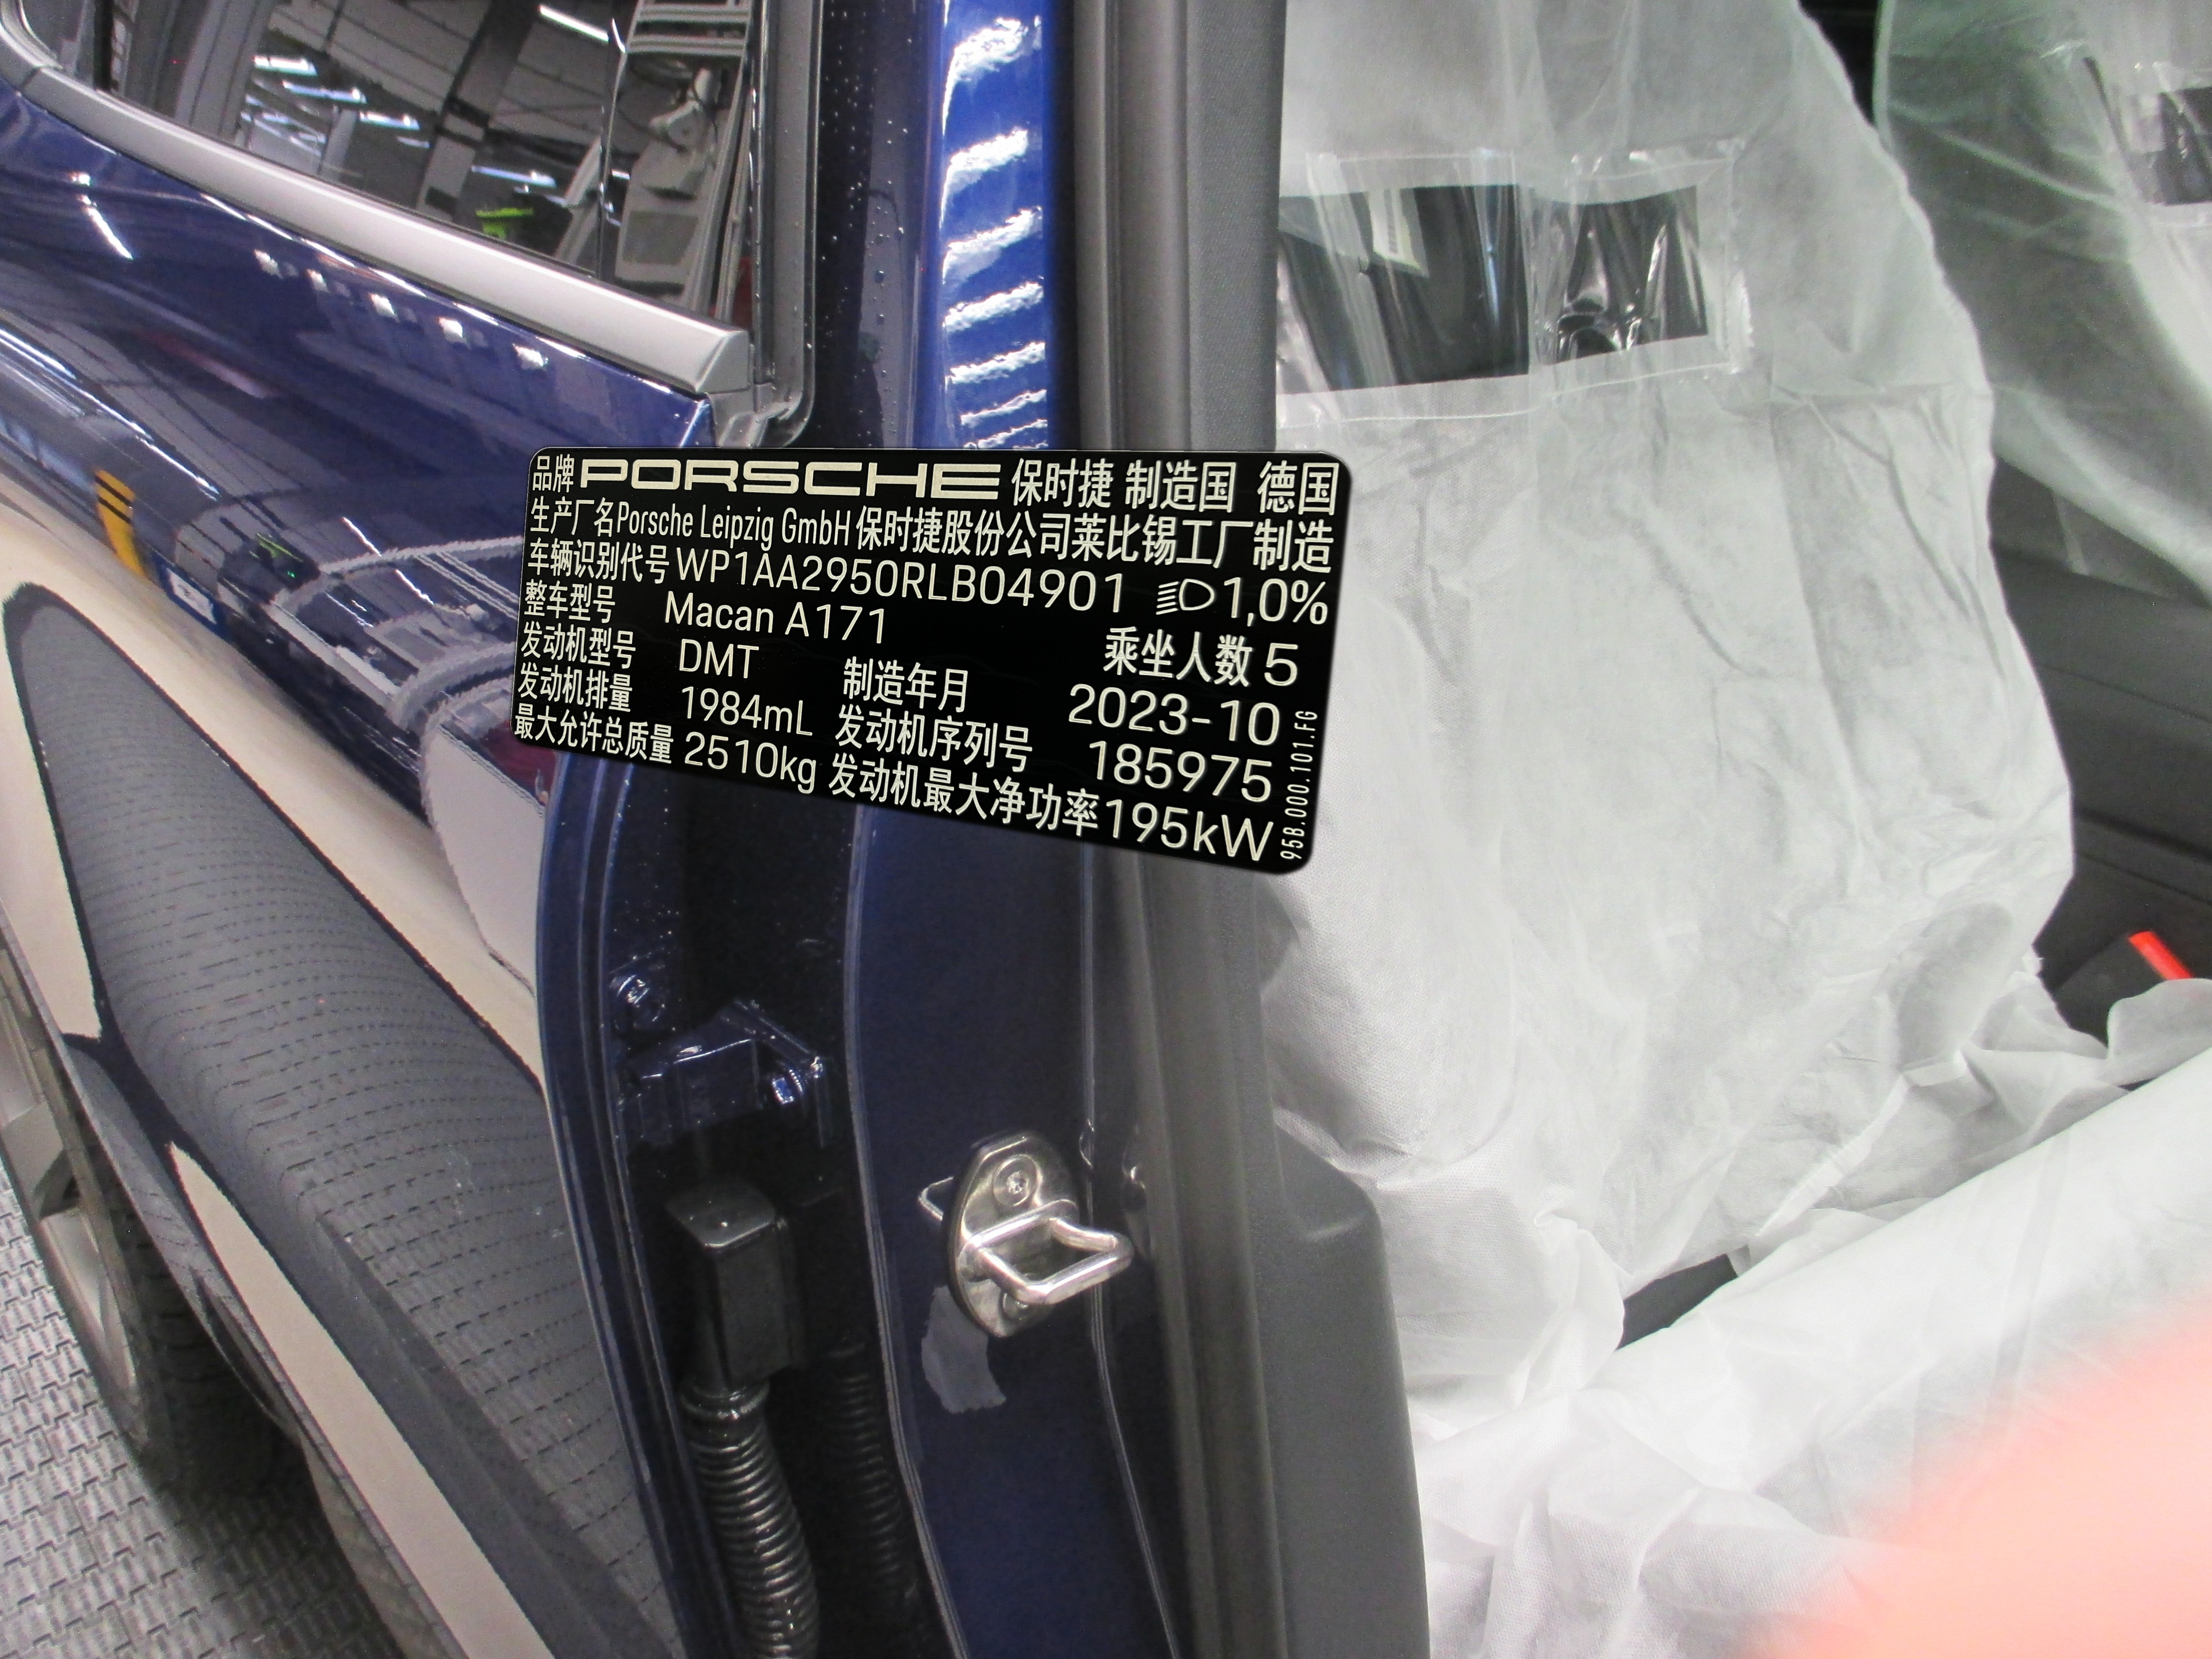Typlabel-China: (510, 446, 1352, 875)
